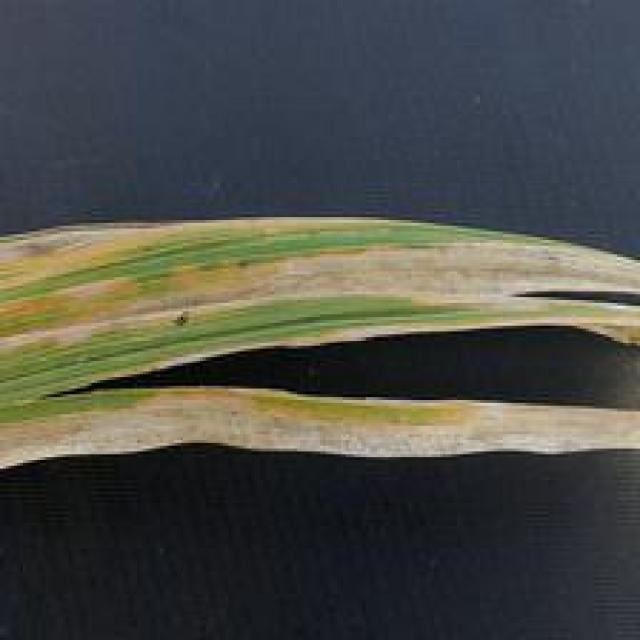Bacterial_Leaf_Blight: (3, 211, 620, 486)
